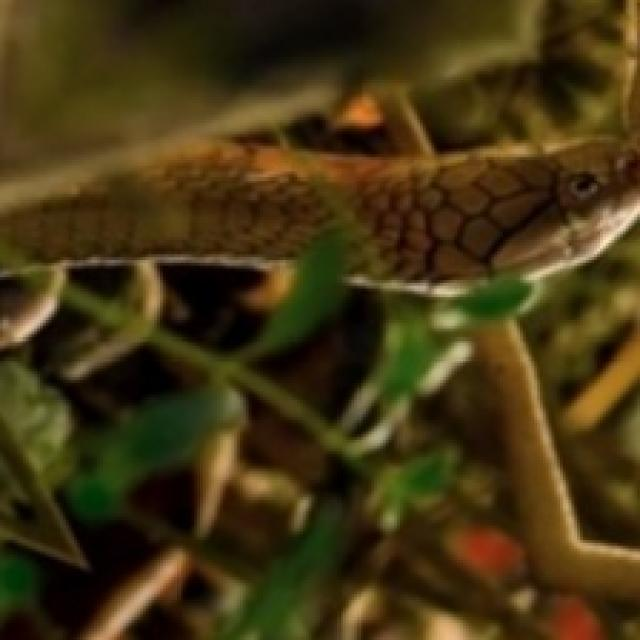king cobra: (0, 0, 637, 291)
